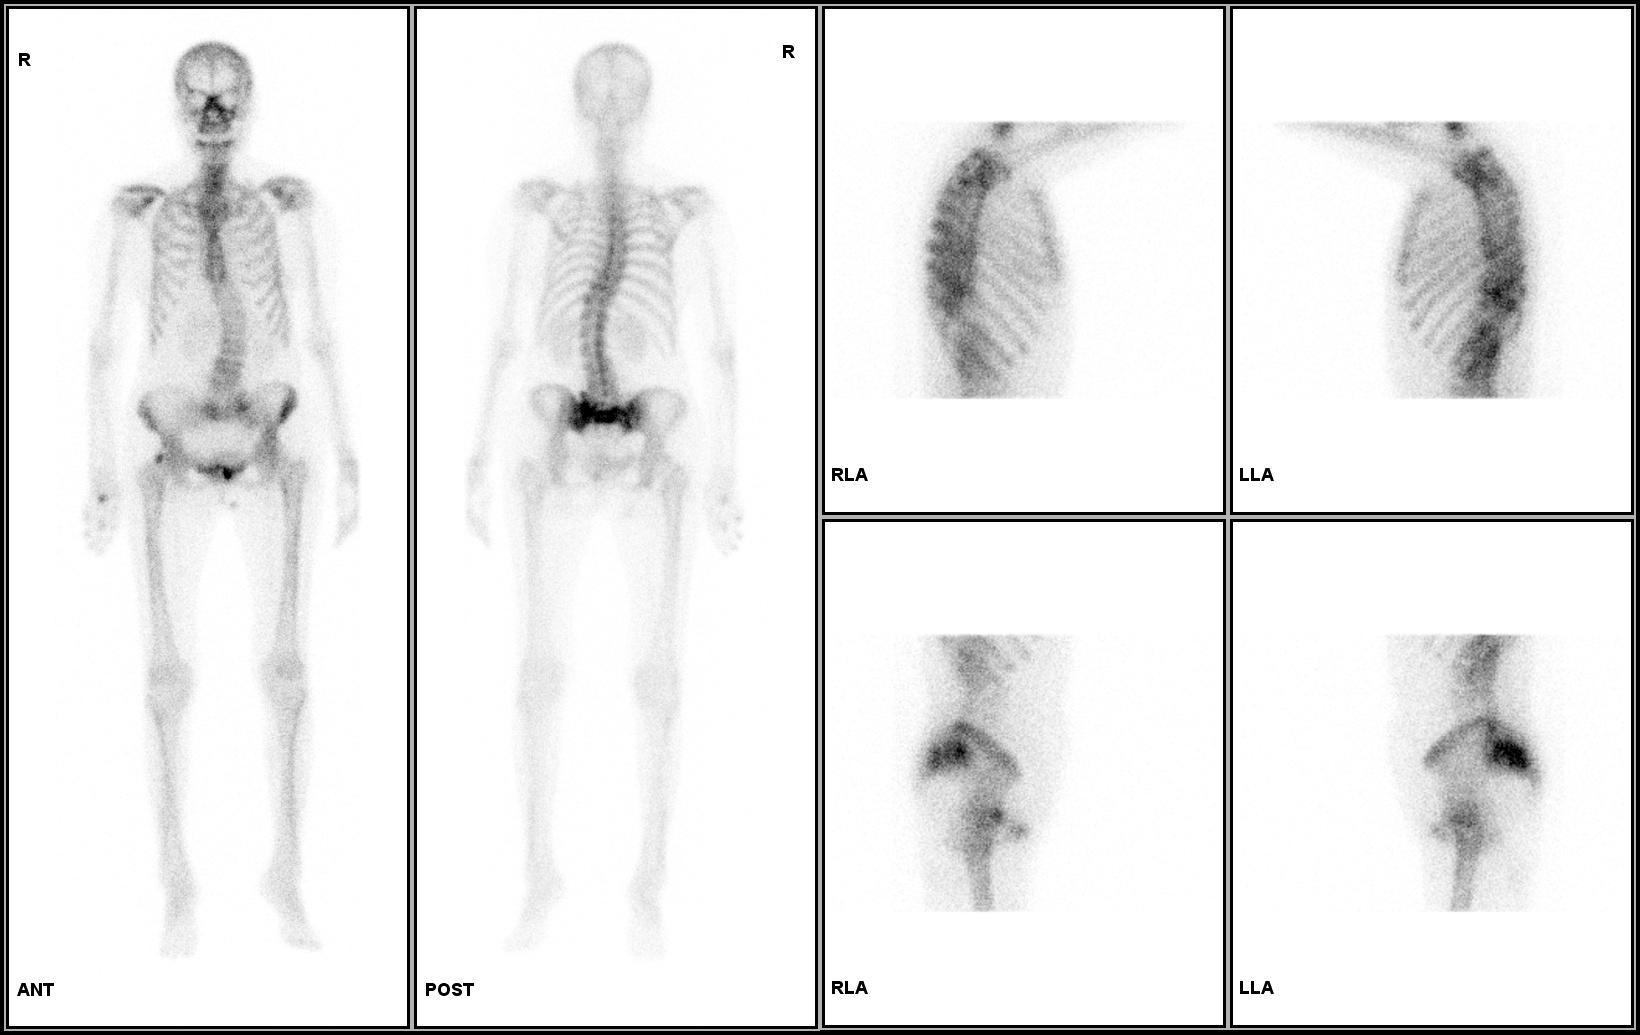person: (8, 6, 817, 1027)
